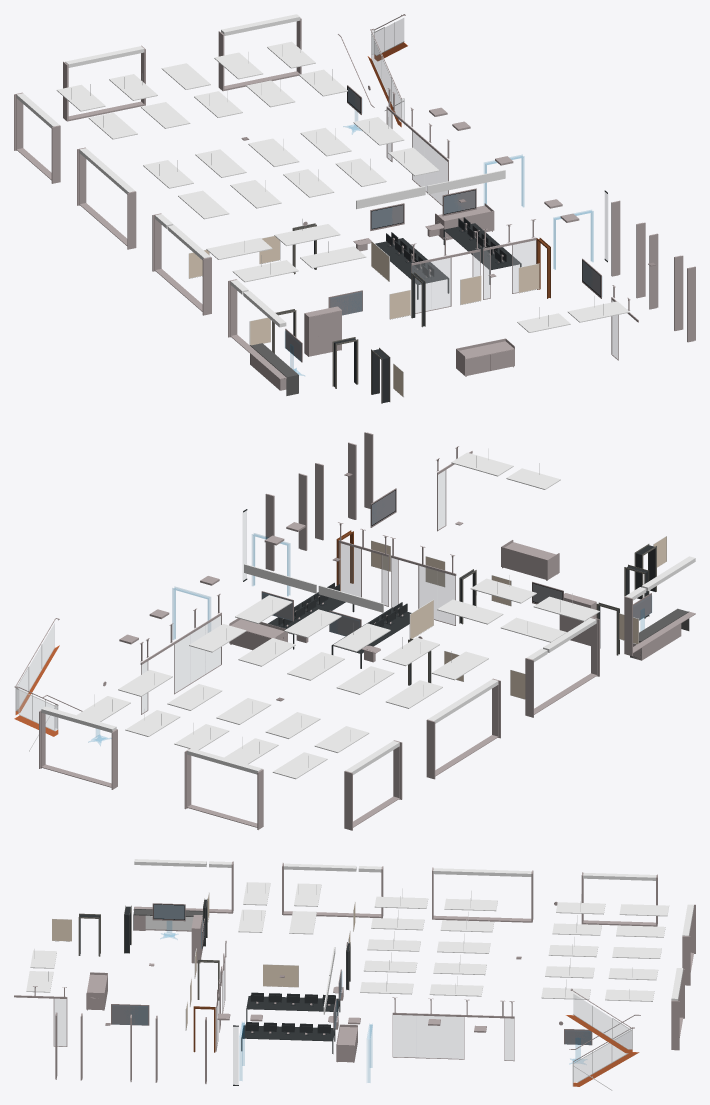
The picture shows the model from 3 angles, top to bottom: view 1: azimuth 30°, elevation 25°; view 2: azimuth 150°, elevation 25°; view 3: azimuth 270°, elevation 25°; orthographic projection. The views are drawn at different scales.
Parts seen in each view (by area): view 1: 2, 1, 0, 4, 6, 7, 9, 11, 10; view 2: 2, 1, 0, 4, 6, 7, 11, 9, 10; view 3: 2, 1, 0, 4, 7, 9, 6, 11, 5.
Part boxes in pixels (x1,y1,x2,y2): 2: [16, 14, 629, 397]; 1: [14, 14, 695, 390]; 0: [371, 18, 617, 358]; 4: [273, 190, 607, 403]; 6: [189, 236, 539, 396]; 7: [241, 85, 655, 362]; 9: [285, 88, 593, 375]; 11: [272, 223, 425, 403]; 10: [250, 343, 298, 395]; 2: [15, 448, 695, 779]; 1: [14, 432, 695, 830]; 0: [16, 470, 454, 730]; 4: [243, 509, 655, 685]; 6: [371, 536, 666, 699]; 7: [261, 473, 651, 701]; 11: [408, 544, 656, 685]; 9: [88, 504, 651, 745]; 10: [630, 608, 689, 660]; 2: [26, 859, 693, 1090]; 1: [14, 861, 695, 1083]; 0: [54, 964, 631, 1084]; 4: [79, 899, 350, 1085]; 7: [105, 903, 592, 1045]; 9: [127, 905, 590, 1082]; 6: [52, 893, 355, 1029]; 11: [78, 898, 350, 1000]; 5: [566, 1015, 639, 1086].
Size of the model in its own units: 19.29 by 5.48 by 34.06.
